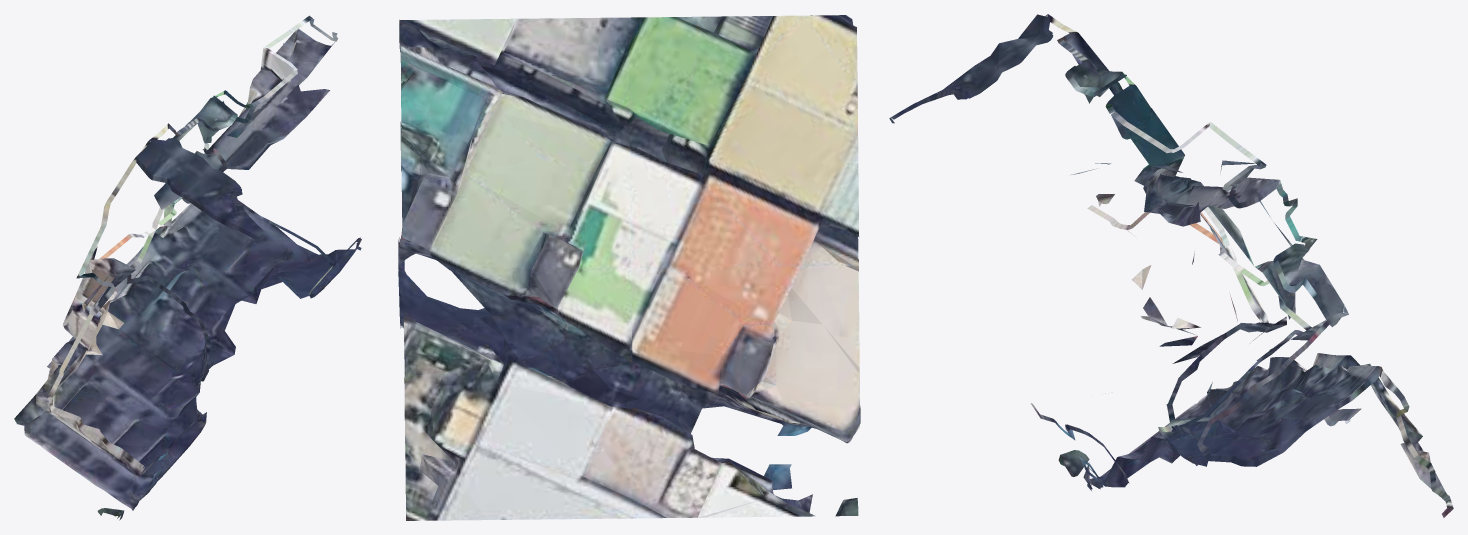
3 views of the same model, side by side, from view 1: azimuth 30°, elevation 25°; view 2: azimuth 150°, elevation 25°; view 3: azimuth 270°, elevation 25° (orthographic). The views are drawn at different scales.
Bounding box in the file's own units: 38.78 × 41.3 × 44.09.
Materials: 2 (2 with a texture image).
